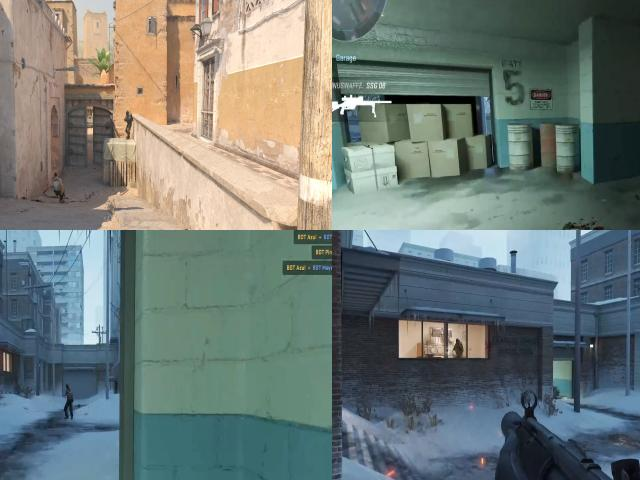CT: (125, 109, 132, 137), (454, 338, 464, 356)
CT-Head: (454, 338, 462, 348), (126, 110, 129, 115)
Dead: (49, 172, 70, 205)
T: (64, 383, 75, 409)
T-Head: (64, 384, 72, 396)
